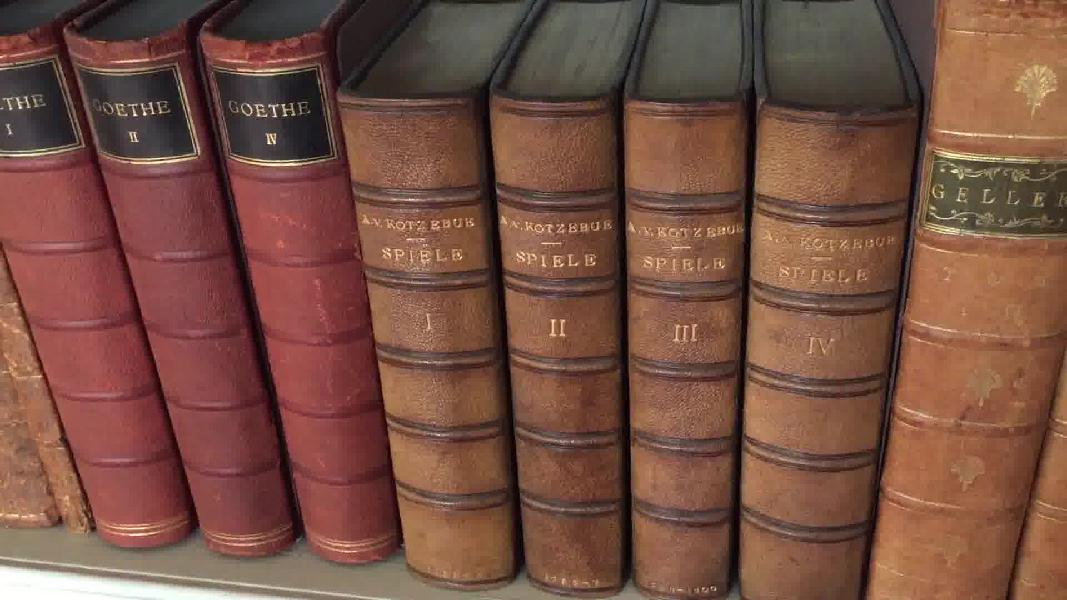Aa6-14_17: (327, 70, 925, 600)
